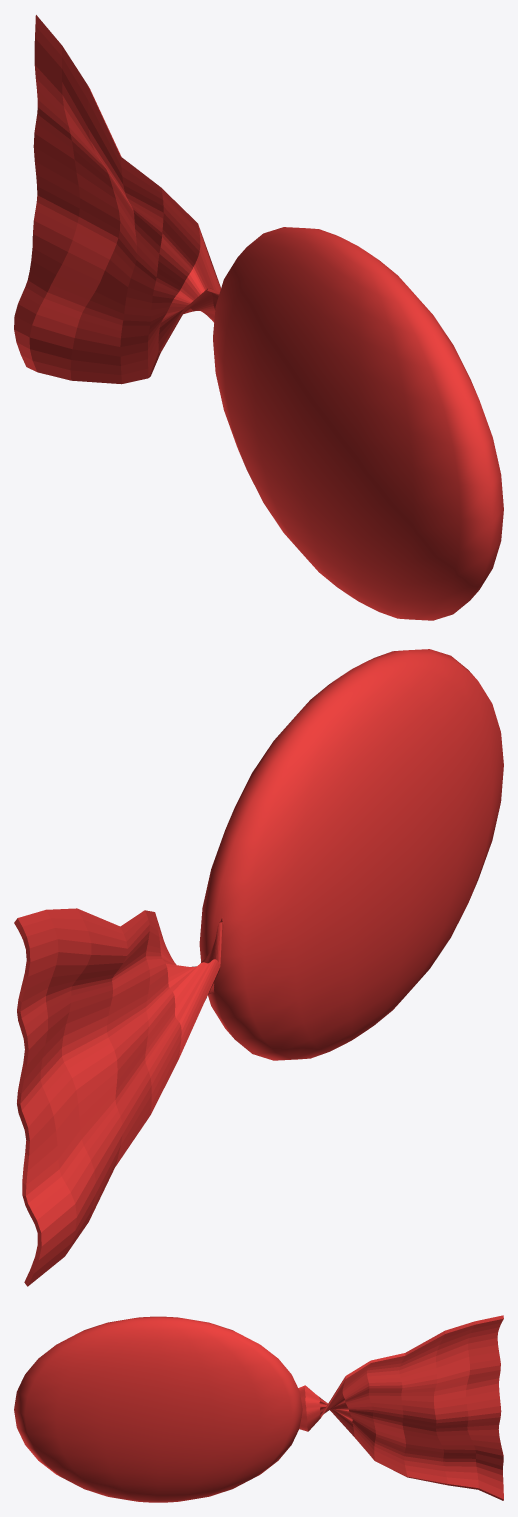
The model's file is bonbon1.glb.
3 views of the same model, one above another, from view 1: azimuth 30°, elevation 25°; view 2: azimuth 150°, elevation 25°; view 3: azimuth 270°, elevation 25° (orthographic). The views are drawn at different scales.
Parts seen in each view (by area): view 1: Sphère, Plan; view 2: Sphère, Plan; view 3: Sphère, Plan.
Boxes of the visible parts, box(x1,y1,x2,y2) form: Sphère: box(213, 227, 503, 620); Plan: box(14, 15, 220, 384); Sphère: box(199, 649, 503, 1060); Plan: box(14, 908, 223, 1286); Sphère: box(14, 1316, 302, 1502); Plan: box(298, 1315, 503, 1500).
Size of the model in its own units: 0.3745 by 1.12 by 2.64.
